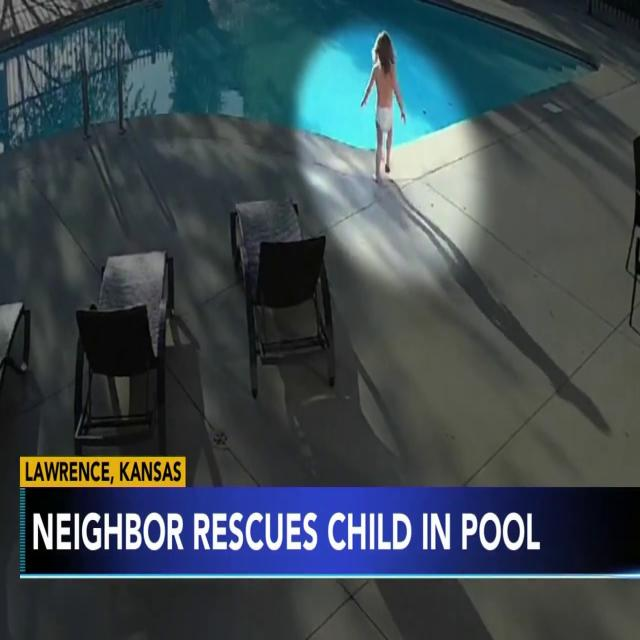child: (360, 30, 407, 184)
